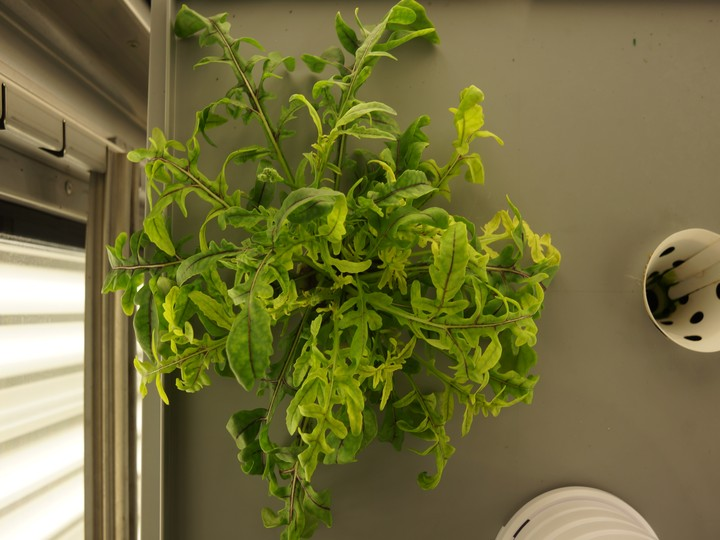roquette_sauvage_red_veined: (103, 5, 572, 536)
